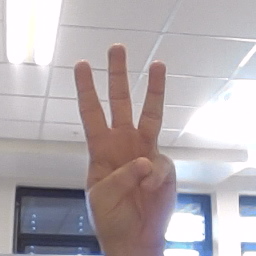W: (64, 42, 183, 241)
